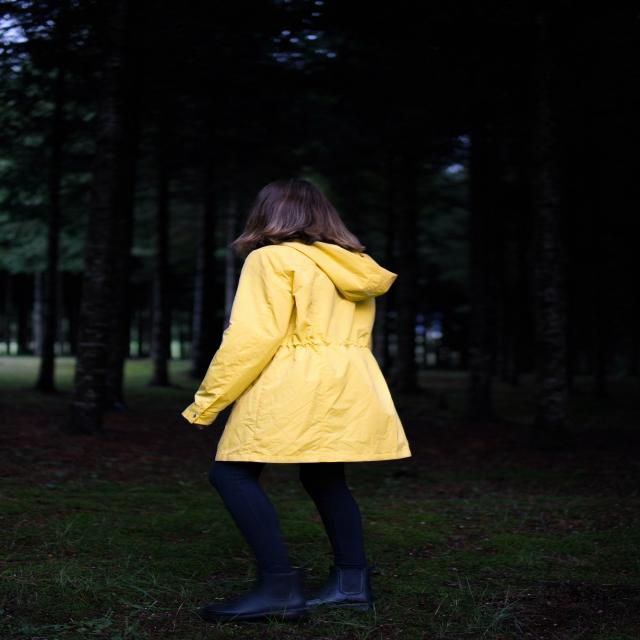adult: (176, 178, 405, 626)
